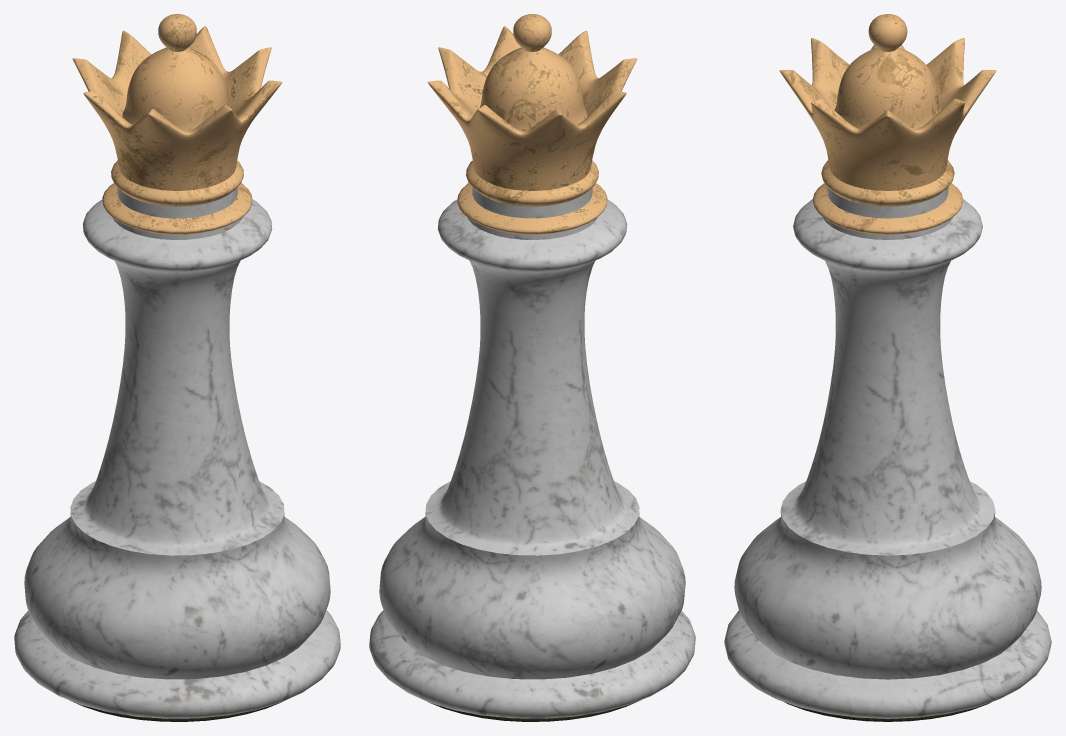
Rendered from chess_piece_queen.obj.
The picture shows the model from 3 angles, left to right: view 1: azimuth 30°, elevation 25°; view 2: azimuth 150°, elevation 25°; view 3: azimuth 270°, elevation 25°; orthographic projection.
Parts seen in each view (by area): view 1: queen_copy19_lambert4_0; view 2: queen_copy19_lambert4_0; view 3: queen_copy19_lambert4_0.
Boxes of the visible parts, x1=… form: queen_copy19_lambert4_0: x1=14, y1=14, x2=340, y2=721; queen_copy19_lambert4_0: x1=369, y1=14, x2=695, y2=721; queen_copy19_lambert4_0: x1=724, y1=14, x2=1051, y2=721.
Size of the model in its own units: 4.76 by 10.37 by 4.76.
Materials: 1 (1 with a texture image).
